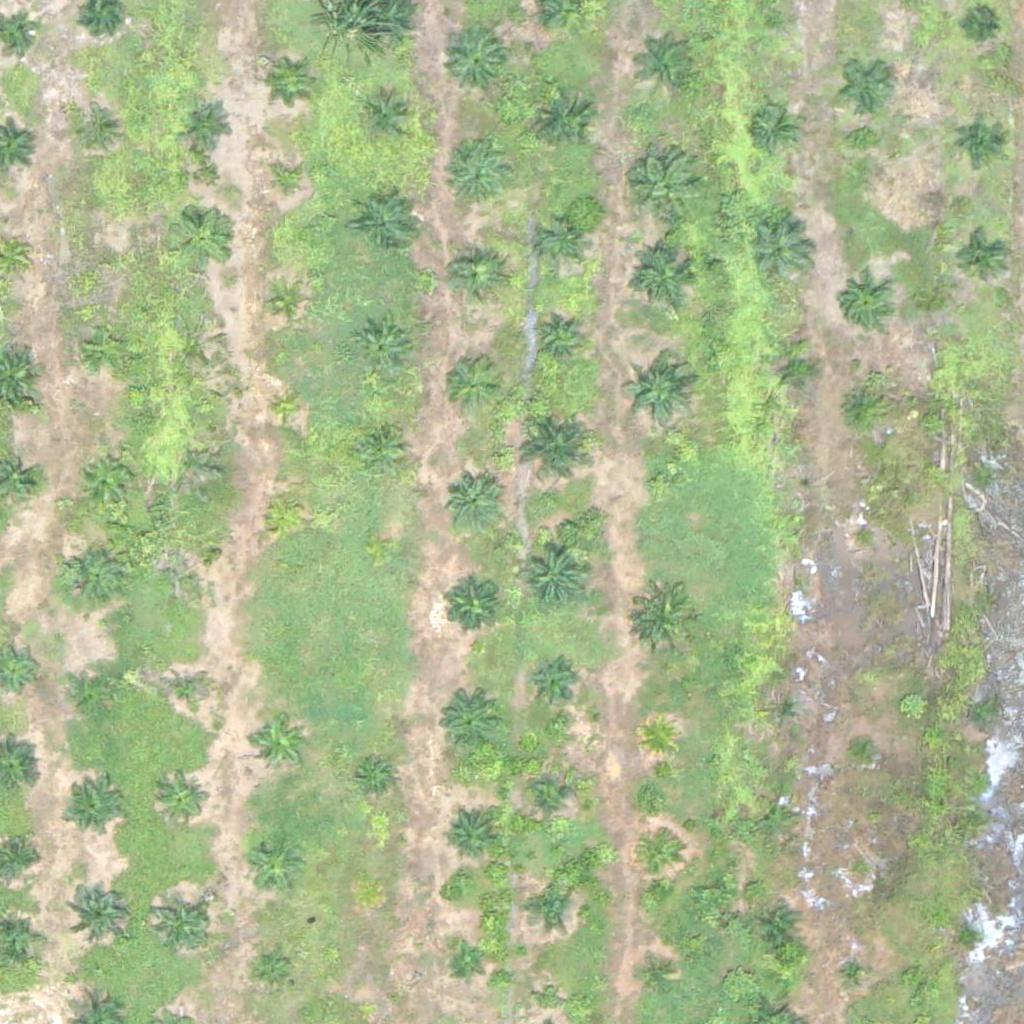Kelapa_Sawit: (513, 404, 600, 492), (621, 355, 696, 431), (516, 535, 591, 610), (241, 835, 304, 898), (439, 353, 502, 416), (444, 146, 507, 209), (442, 470, 505, 533), (750, 219, 813, 282), (633, 587, 696, 650), (58, 544, 121, 607), (357, 189, 420, 252), (248, 712, 311, 775), (353, 319, 416, 382), (63, 780, 125, 843), (151, 894, 213, 957), (67, 877, 129, 940), (443, 30, 505, 93), (436, 690, 498, 753), (440, 573, 502, 636), (533, 90, 595, 153), (633, 247, 695, 310), (635, 157, 698, 219), (641, 35, 703, 98), (76, 447, 138, 510), (172, 207, 234, 270), (157, 773, 207, 824), (442, 811, 492, 862), (953, 232, 1003, 283), (519, 881, 569, 932), (362, 93, 412, 144), (771, 345, 821, 396), (833, 380, 883, 431), (161, 667, 211, 718), (73, 665, 123, 716), (451, 252, 501, 302), (523, 661, 573, 711), (955, 115, 1005, 165), (843, 60, 893, 110), (750, 103, 800, 153), (838, 278, 888, 328), (356, 420, 406, 470), (524, 775, 574, 825), (182, 98, 232, 148), (82, 323, 132, 373), (532, 313, 581, 364), (276, 63, 314, 101), (639, 718, 677, 756), (837, 955, 875, 993), (761, 907, 799, 945), (641, 840, 679, 878), (640, 960, 678, 998), (757, 798, 795, 836), (269, 164, 307, 202), (267, 283, 305, 321), (269, 390, 307, 428), (265, 490, 303, 528), (356, 761, 394, 799), (542, 222, 579, 260), (766, 692, 803, 730), (447, 944, 484, 982), (77, 115, 114, 153), (89, 244, 126, 282), (172, 542, 209, 580), (255, 950, 292, 987), (965, 12, 990, 37), (764, 5, 789, 30), (851, 732, 876, 757), (848, 523, 873, 548), (649, 470, 674, 495)
